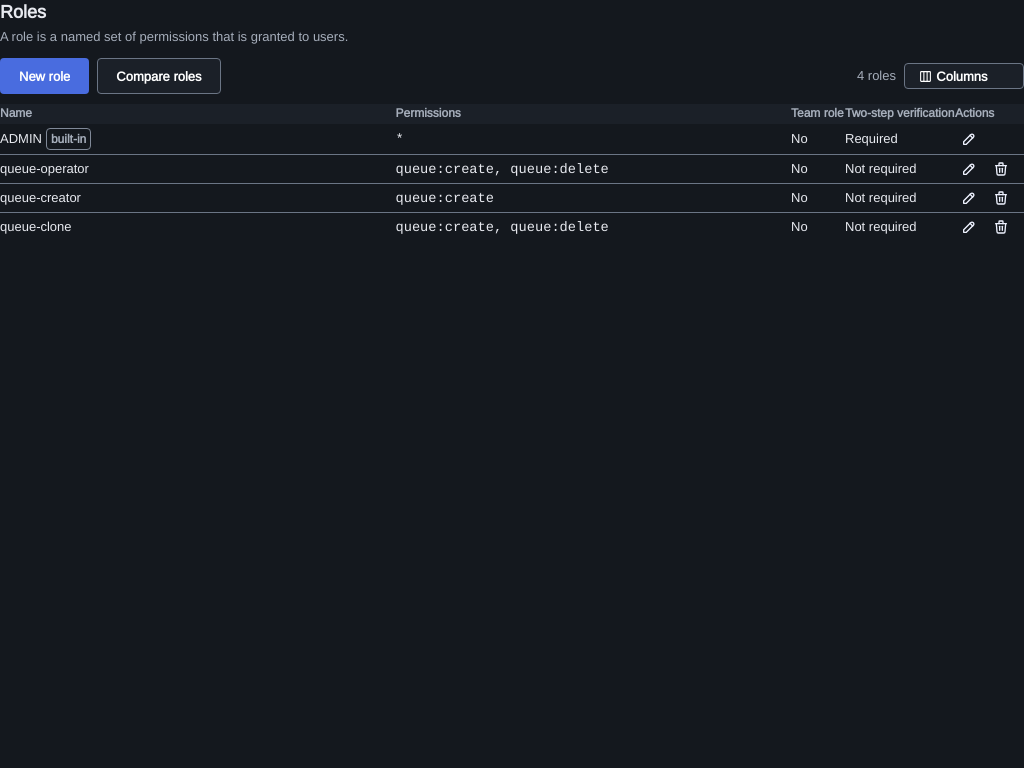
RolesPanel editor › asks for a name on save, beside the field, and puts focus there
Step 1. Click the button "New role" → (45, 76), box [0,58,89,94]
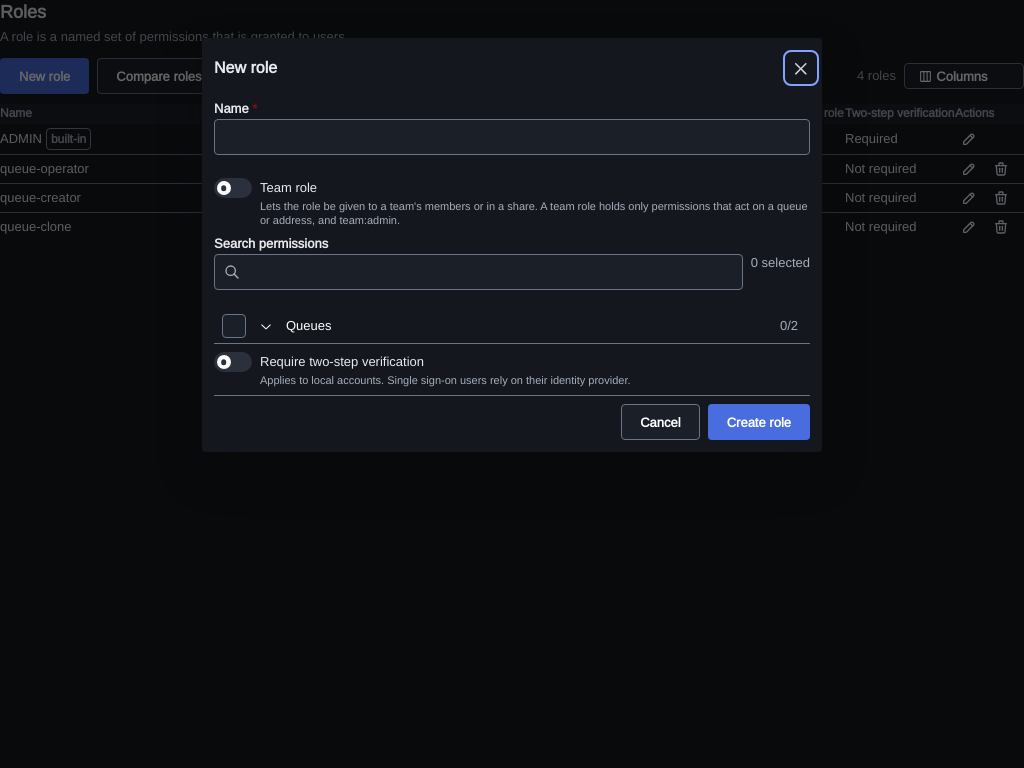
Step 2. Click the button "Create role" → (759, 422), box [708,404,810,440]
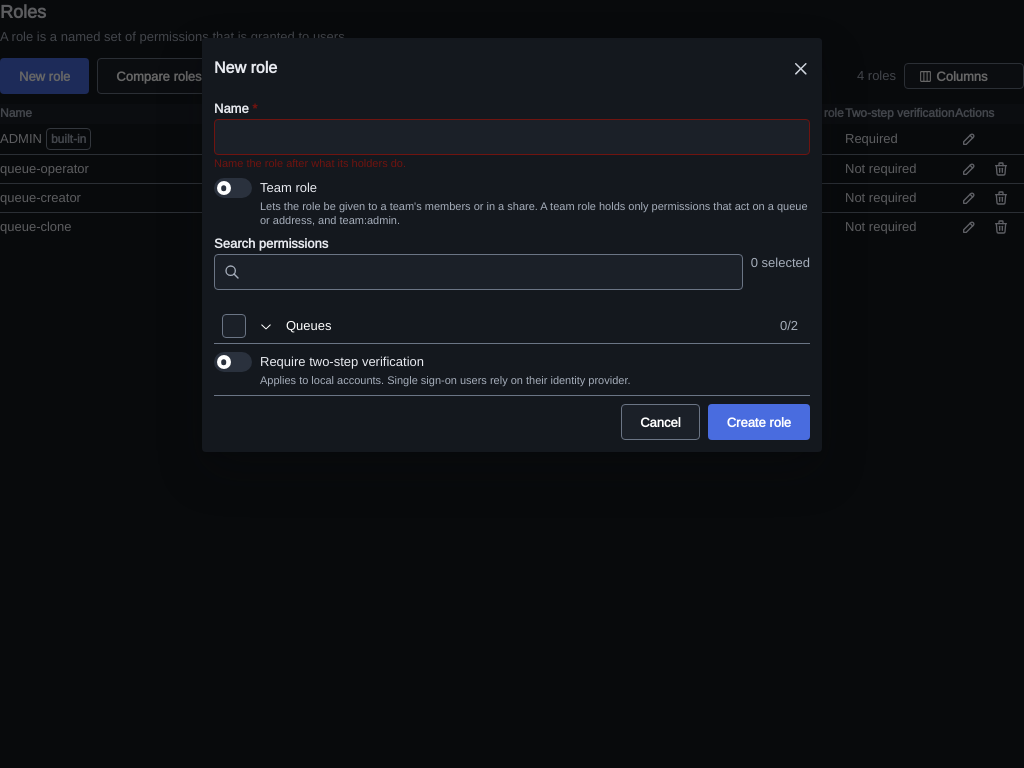
Result: the text "Name the role after what its holders do." is shown at [214,156,406,170]
